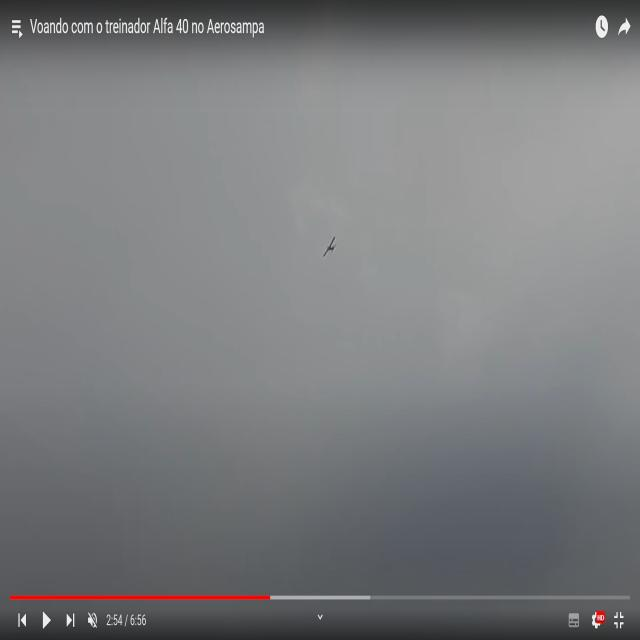iha: (317, 235, 330, 255)
